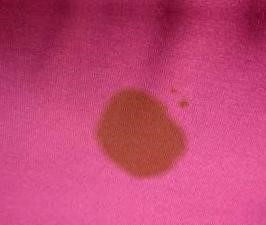stain: (97, 87, 189, 182), (176, 101, 194, 111), (165, 83, 178, 94)
